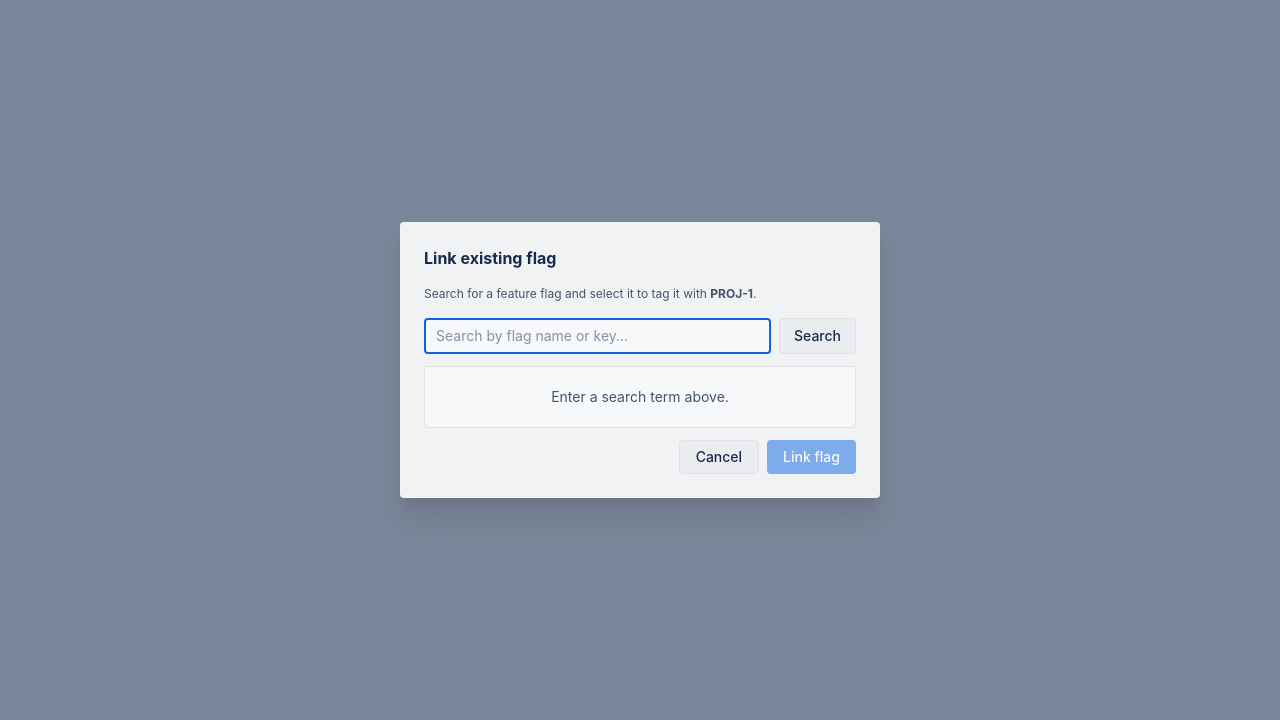
Test: LinkFlagModal › shows "No flags found" when search returns empty
Type "xyz" into the field with placeholder "Search by flag name or key…".
click(598, 336); type("xyz")  # box x1=424 y1=318 x2=771 y2=354
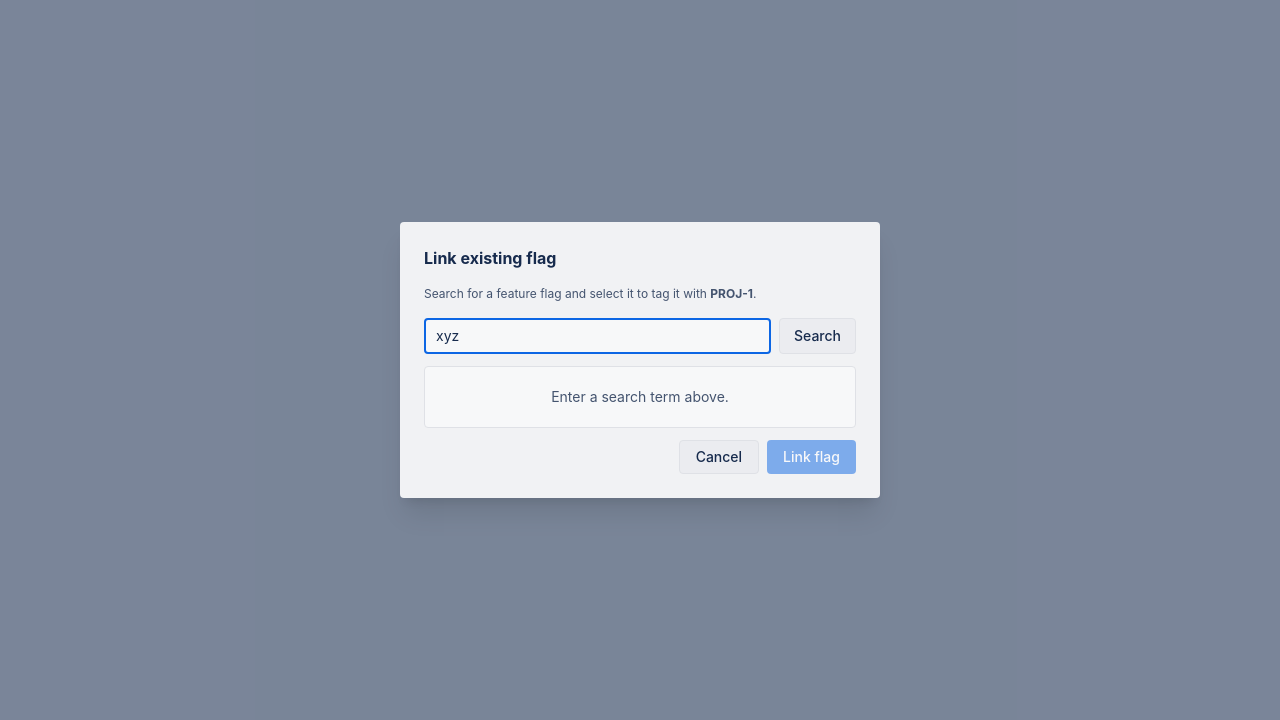
Click the button "Search".
click(818, 336)  # box x1=779 y1=318 x2=856 y2=354
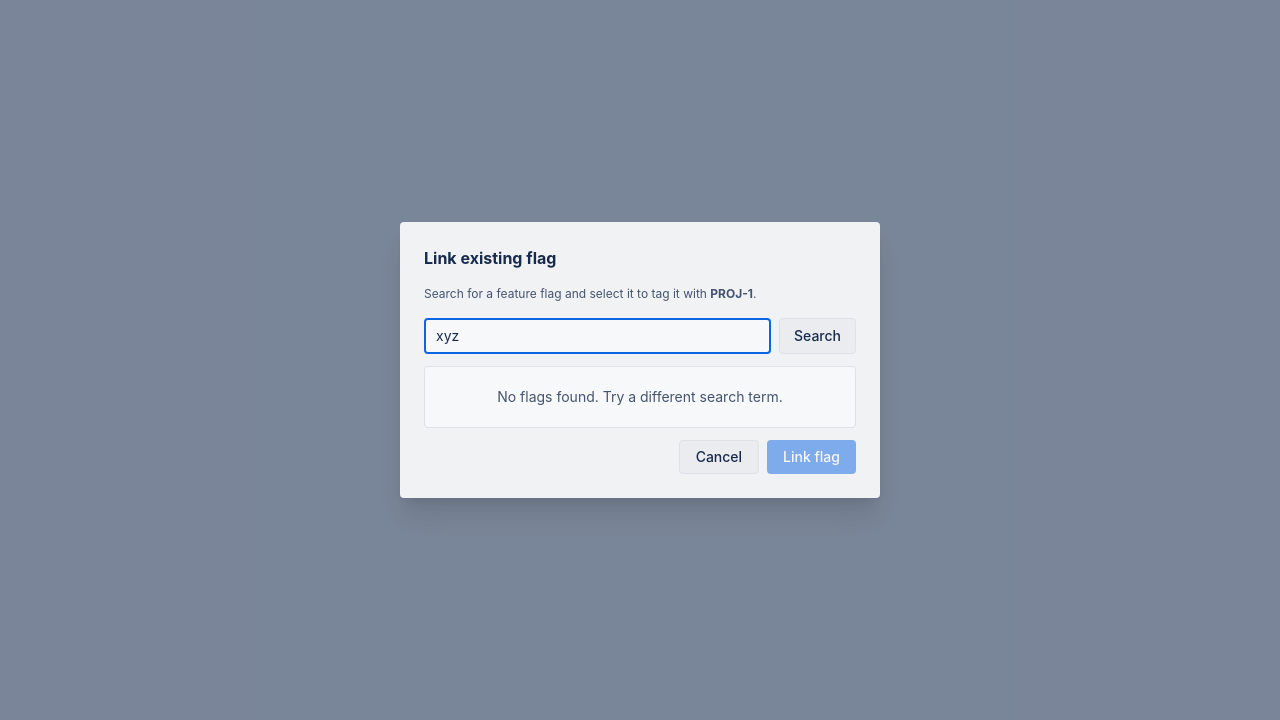
Expected: the text "No flags found" is shown, x1=497 y1=388 x2=783 y2=405
